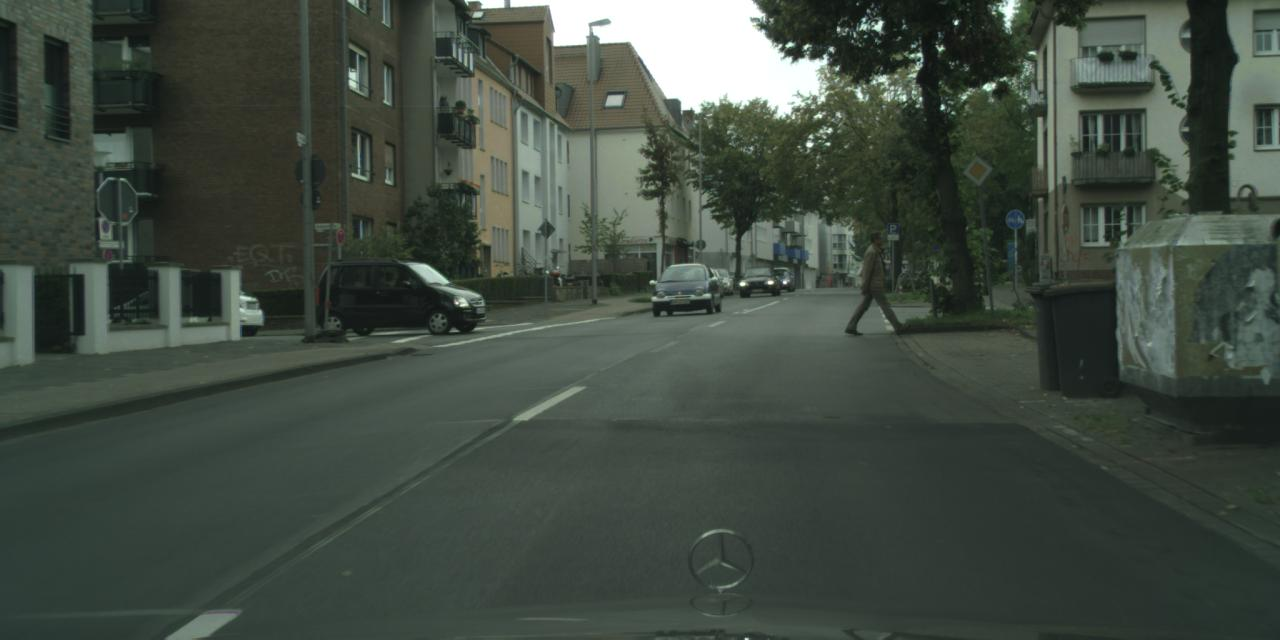ped: (856, 232, 896, 332)
